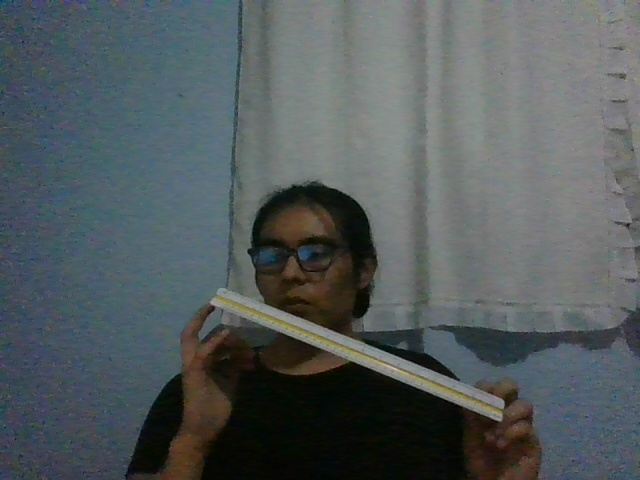regla: (209, 287, 504, 423)
